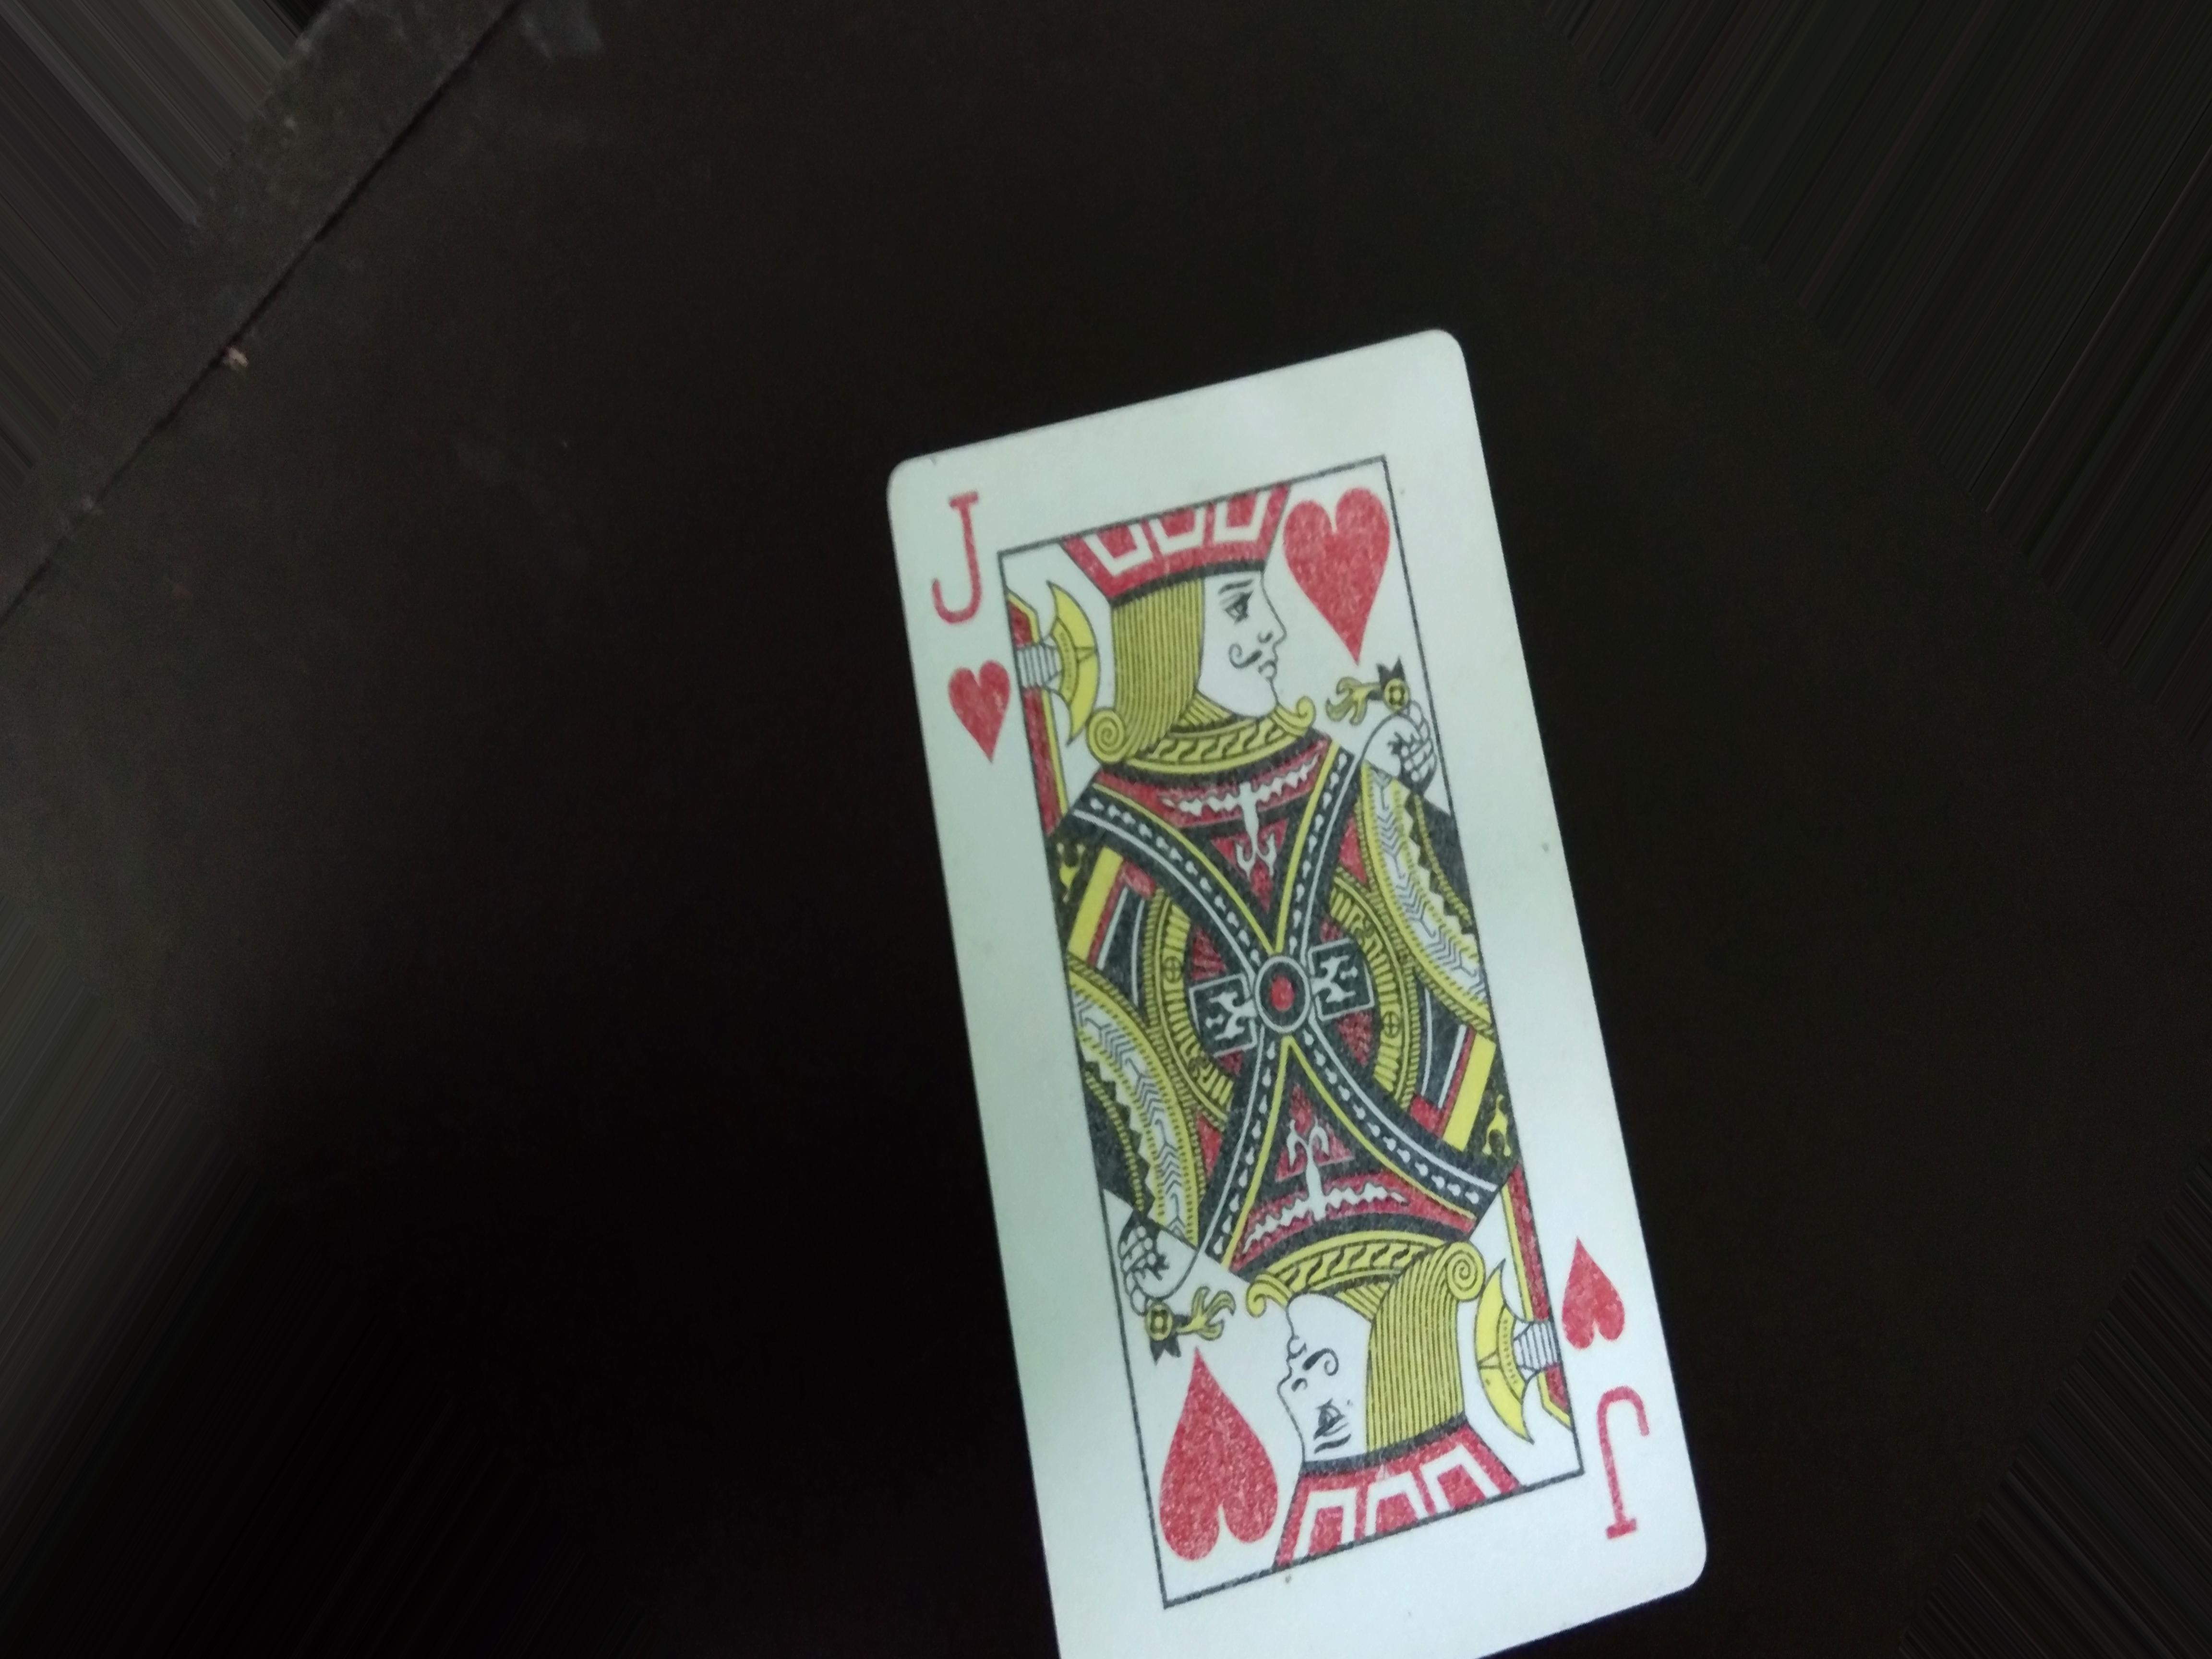JH: (927, 471, 1022, 765)
